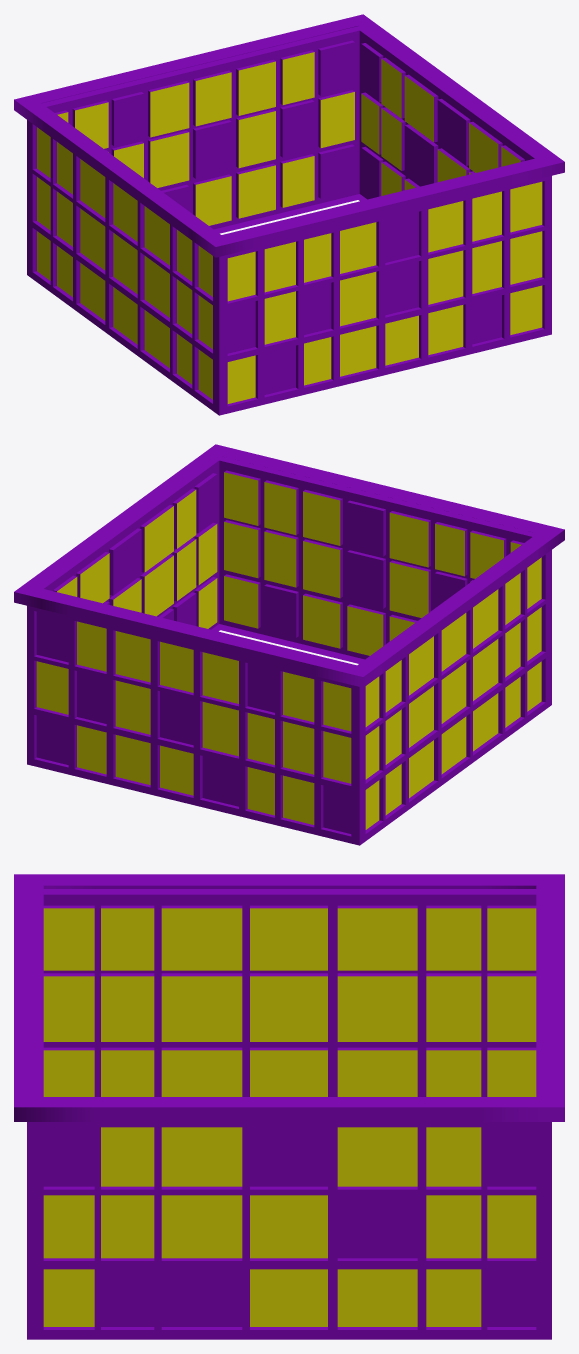
Rendered from Building_Large_Peice_003.fbx.
The picture shows the model from 3 angles, top to bottom: view 1: azimuth 30°, elevation 25°; view 2: azimuth 150°, elevation 25°; view 3: azimuth 270°, elevation 25°; orthographic projection. The views are drawn at different scales.
Parts seen in each view (by area): view 1: Building_Large_Piece_003; view 2: Building_Large_Piece_003; view 3: Building_Large_Piece_003.
Boxes of the visible parts, bbox=[...] form: Building_Large_Piece_003: bbox=[14, 14, 564, 415]; Building_Large_Piece_003: bbox=[14, 444, 564, 845]; Building_Large_Piece_003: bbox=[14, 874, 564, 1339].
Size of the model in its own units: 8400 by 4000 by 8400.
